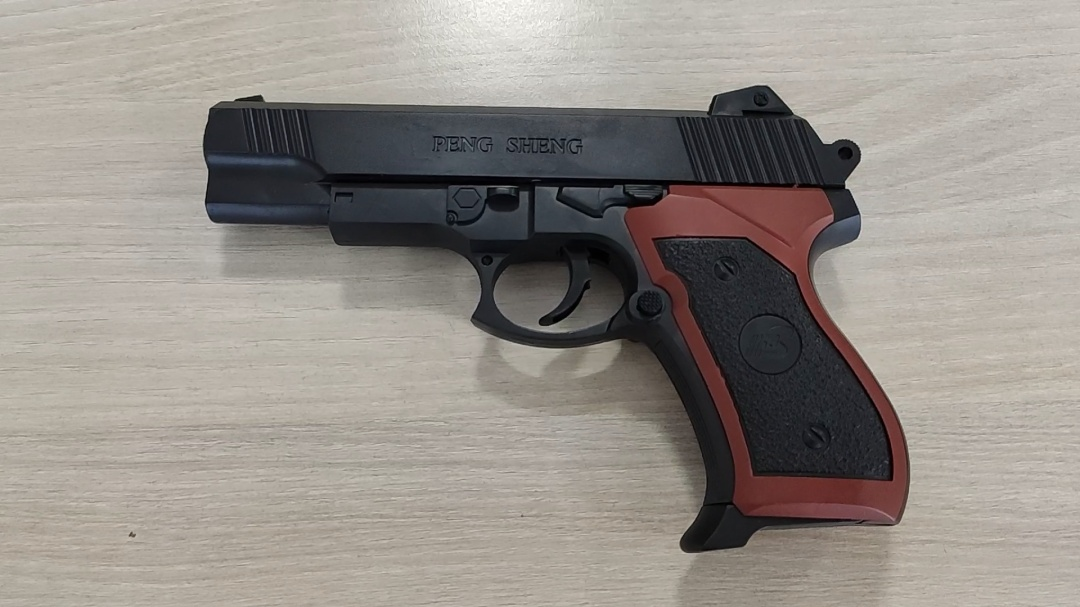gun: (506, 178, 616, 340)
